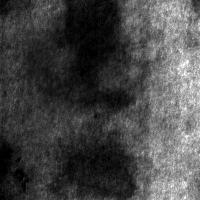patches: (21, 13, 121, 113), (62, 1, 131, 114), (4, 92, 74, 162), (62, 148, 140, 199)
